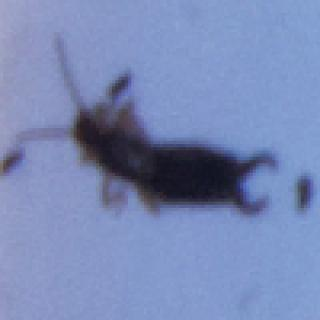earwig: (12, 32, 279, 224)
